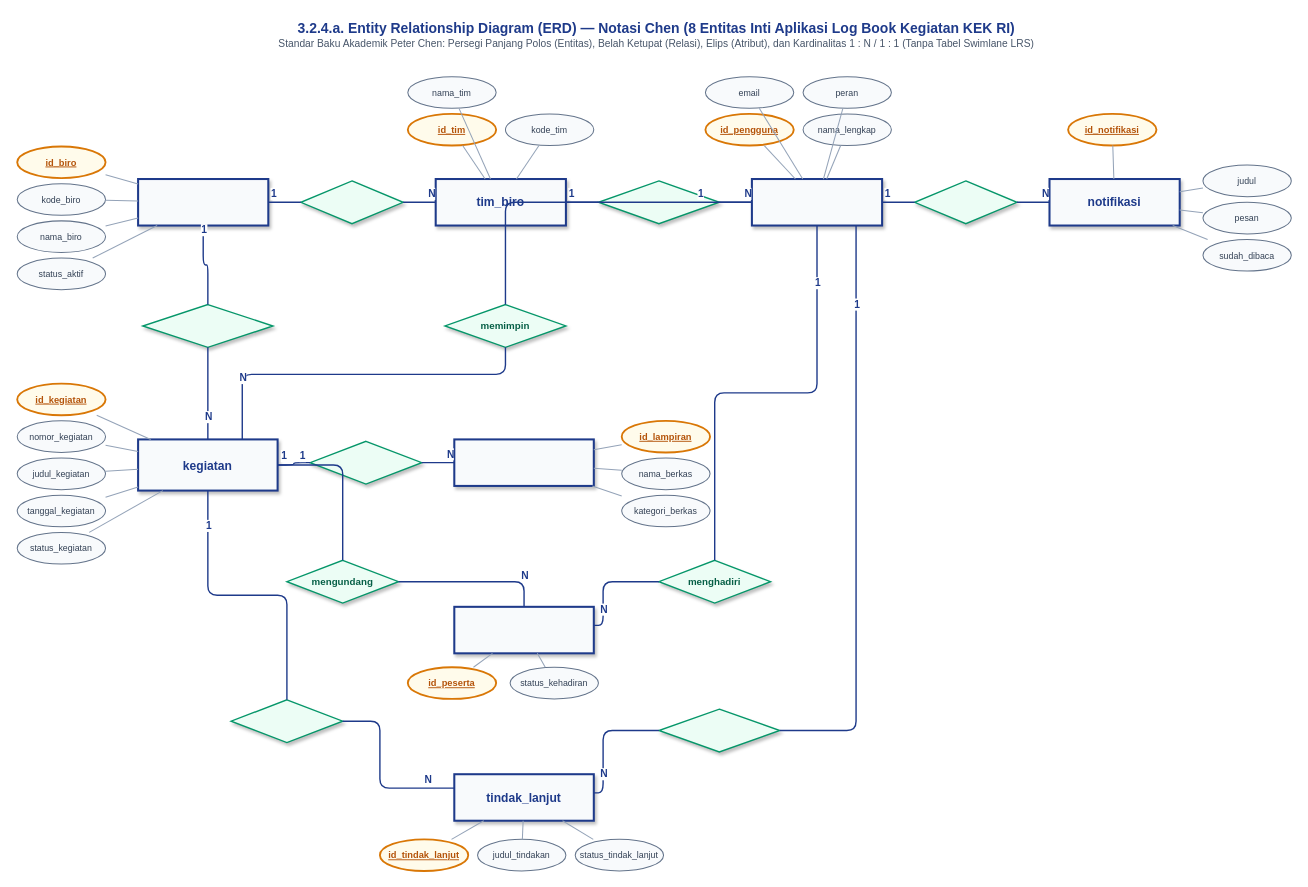
The diagram is 1308 pixels wide and 887 high, and some of its shapes have lost their labels. The centre of each missing label's shape, as x and y in pixels:
beranggotakan: (x=659, y=203)
biro: (x=203, y=203)
lampiran_kegiatan: (x=524, y=463)
melampirkan: (x=366, y=463)
menaungi: (x=352, y=203)
menerima: (x=966, y=203)
menetapkan: (x=287, y=722)
mengerjakan PIC: (x=720, y=731)
menyelenggarakan: (x=208, y=327)
pengguna: (x=817, y=203)
peserta_kegiatan: (x=524, y=631)
